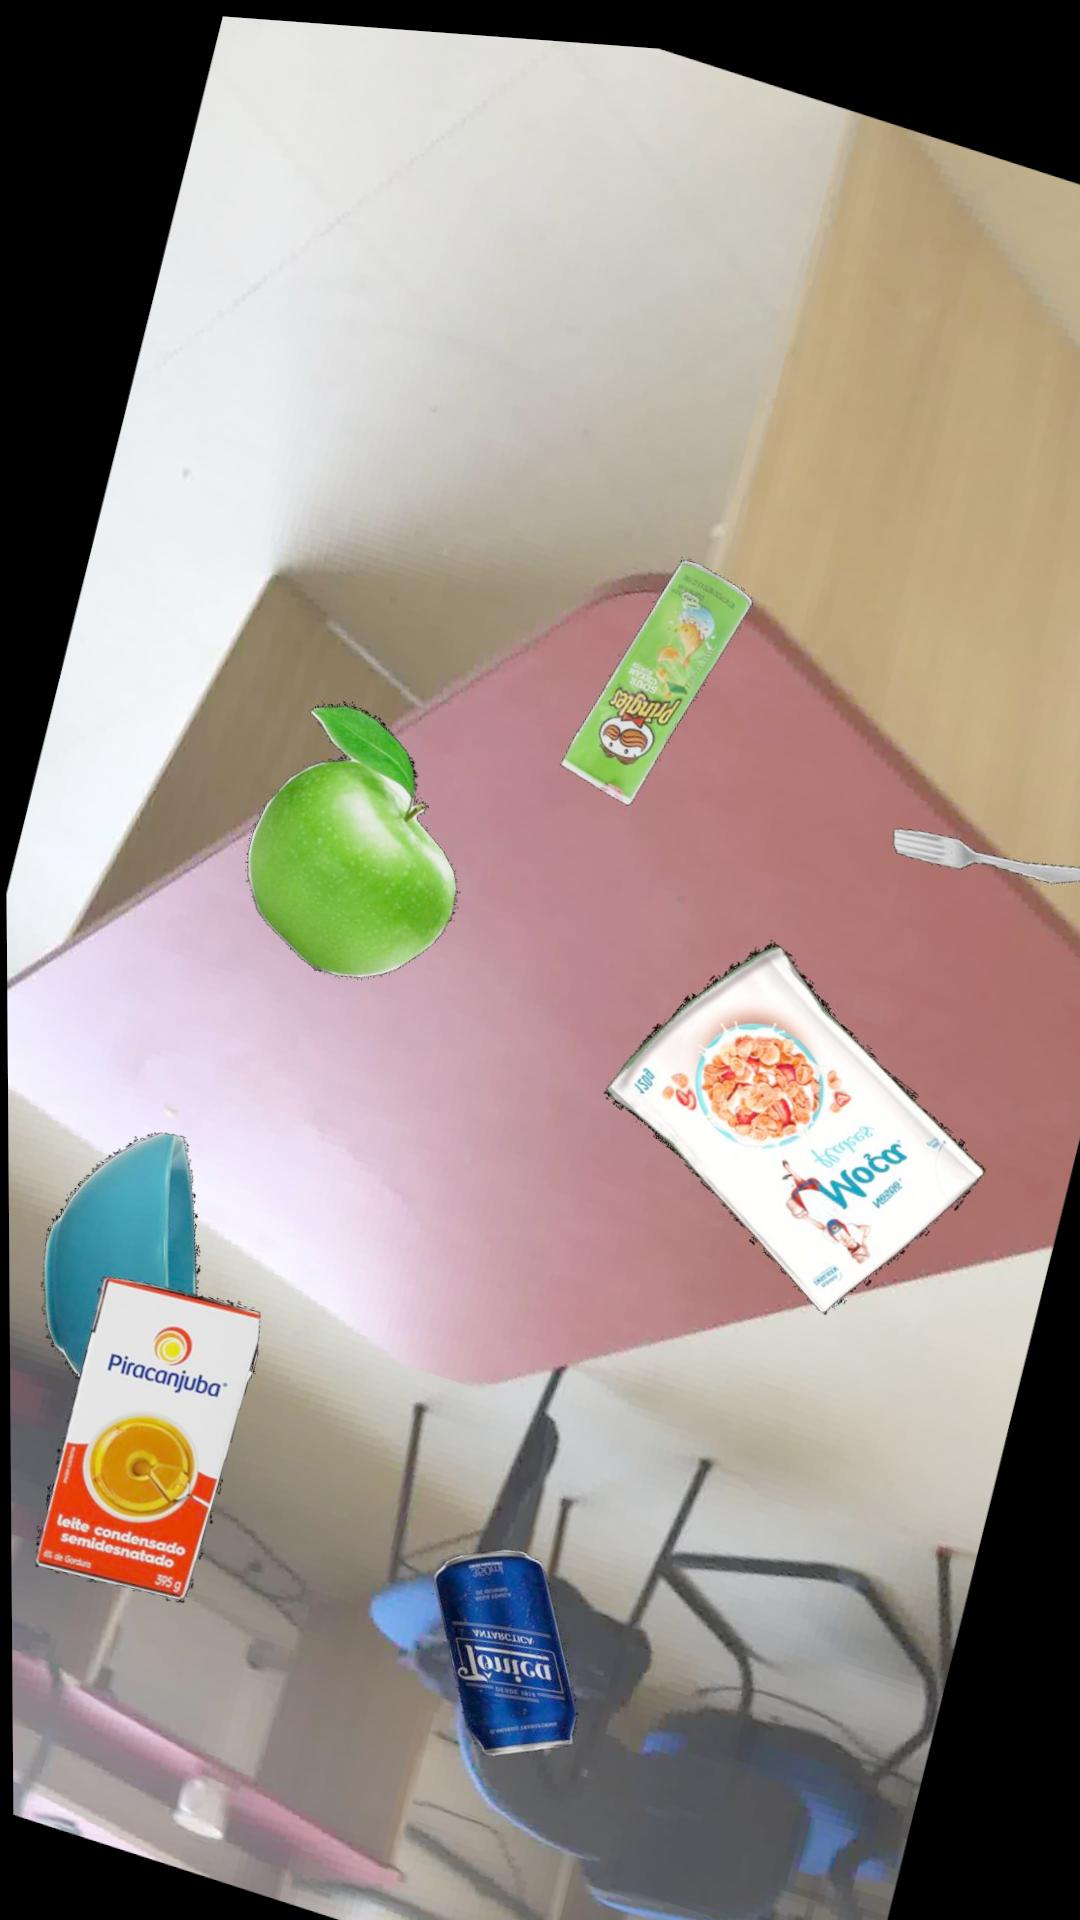bowl: (42, 1133, 199, 1381)
corn flakes: (603, 932, 985, 1304)
fork: (891, 816, 1080, 869)
green apple: (245, 700, 458, 975)
pringles: (560, 551, 753, 798)
tonic: (433, 1543, 578, 1751)
